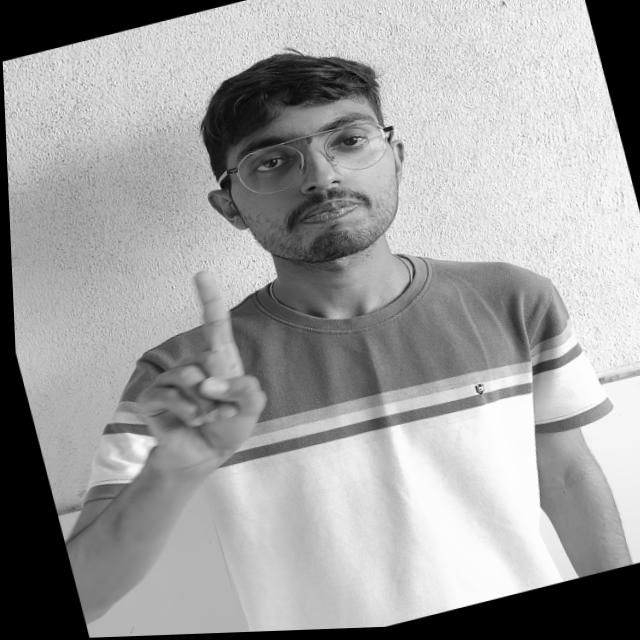Question: (84, 250, 316, 499)
